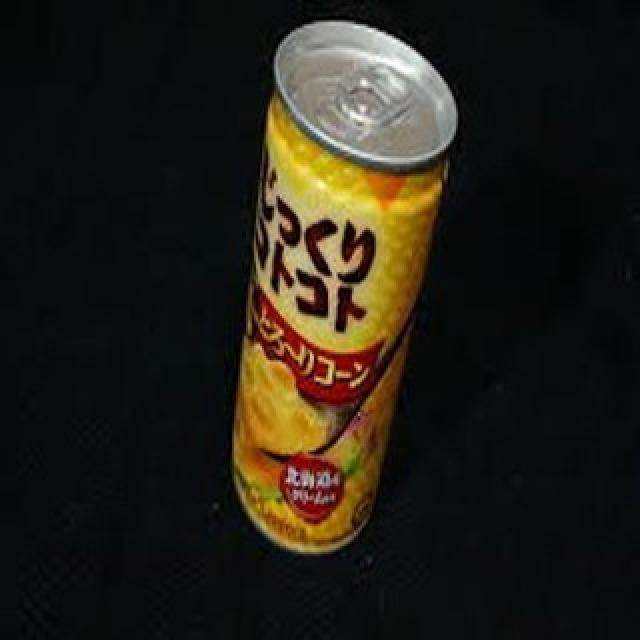can: (230, 18, 460, 558)
